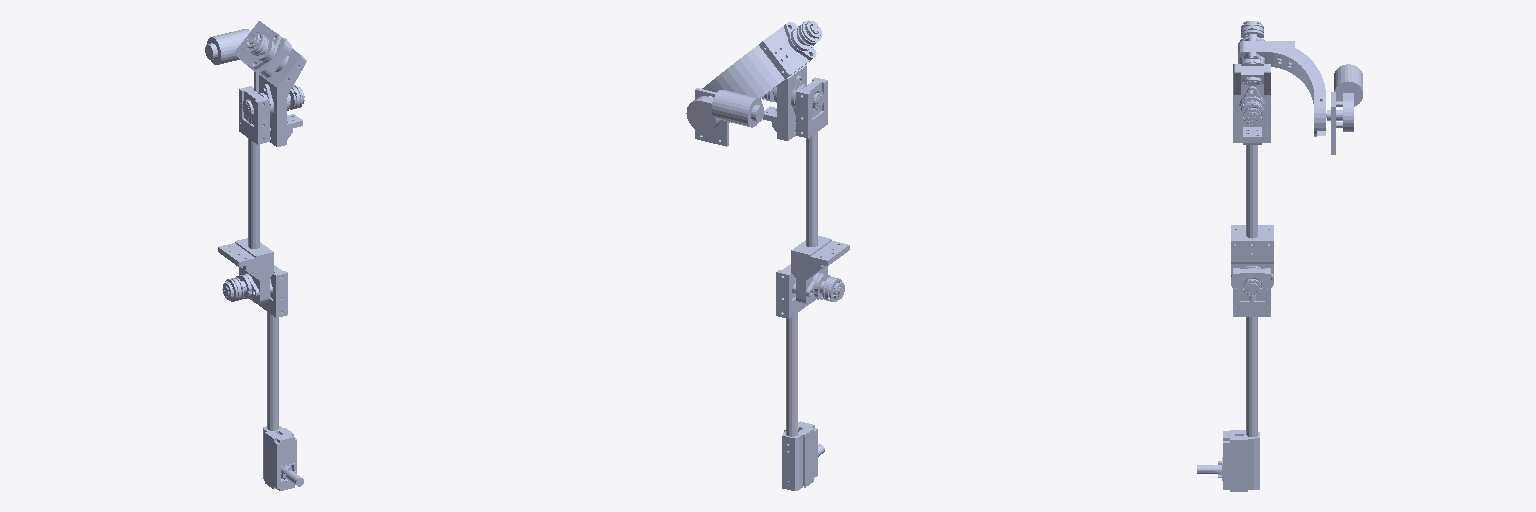
The robot description file, URDF, robot "armatus05":
<robot
  name="armatus05">
  <link
    name="base_link">
    <inertial>
      <origin
        xyz="-0.0441035207367266 0.133129136439465 0.120343299252624"
        rpy="0 0 0" />
      <mass
        value="0.468691906928147" />
      <inertia
        ixx="0.000175050143229992"
        ixy="0.000150316849782907"
        ixz="-0.000108696774317794"
        iyy="0.000258917610154074"
        iyz="8.15383088186357E-05"
        izz="0.00031298015583052" />
    </inertial>
    <visual>
      <origin
        xyz="0 0 0"
        rpy="0 0 0" />
      <geometry>
        <mesh
          filename="package://armatus05/meshes/base_link.STL" />
      </geometry>
      <material
        name="">
        <color
          rgba="0.792156862745098 0.819607843137255 0.933333333333333 1" />
      </material>
    </visual>
    <collision>
      <origin
        xyz="0 0 0"
        rpy="0 0 0" />
      <geometry>
        <mesh
          filename="package://armatus05/meshes/base_link.STL" />
      </geometry>
    </collision>
  </link>
  <link
    name="link1">
    <inertial>
      <origin
        xyz="-0.0895141673370674 2.57477610537959E-07 0.0658764774104169"
        rpy="0 0 0" />
      <mass
        value="0.645673307184909" />
      <inertia
        ixx="0.000154588451666726"
        ixy="-1.47066835651919E-08"
        ixz="0.000246559051749186"
        iyy="0.00054844629959003"
        iyz="9.18076963914551E-09"
        izz="0.000393857849027755" />
    </inertial>
    <visual>
      <origin
        xyz="0 0 0"
        rpy="0 0 0" />
      <geometry>
        <mesh
          filename="package://armatus05/meshes/link1.STL" />
      </geometry>
      <material
        name="">
        <color
          rgba="0.792156862745098 0.819607843137255 0.933333333333333 1" />
      </material>
    </visual>
    <collision>
      <origin
        xyz="0 0 0"
        rpy="0 0 0" />
      <geometry>
        <mesh
          filename="package://armatus05/meshes/link1.STL" />
      </geometry>
    </collision>
  </link>
  <joint
    name="q1"
    type="continuous">
    <origin
      xyz="0.0026164 -0.16132 0.11812"
      rpy="1.5708 0.7854 -6.123E-17" />
    <parent
      link="base_link" />
    <child
      link="link1" />
    <axis
      xyz="0 0 1" />
  </joint>
  <link
    name="link2">
    <inertial>
      <origin
        xyz="3.07676155664183E-07 0.0564202422369583 -0.0656965211506138"
        rpy="0 0 0" />
      <mass
        value="0.499147117919005" />
      <inertia
        ixx="0.00155927643305349"
        ixy="7.57179845178887E-09"
        ixz="1.80871403006569E-08"
        iyy="0.00104901305996136"
        iyz="-0.000649128741932588"
        izz="0.000510263419661247" />
    </inertial>
    <visual>
      <origin
        xyz="0 0 0"
        rpy="0 0 0" />
      <geometry>
        <mesh
          filename="package://armatus05/meshes/link2.STL" />
      </geometry>
      <material
        name="">
        <color
          rgba="0.792156862745098 0.819607843137255 0.933333333333333 1" />
      </material>
    </visual>
    <collision>
      <origin
        xyz="0 0 0"
        rpy="0 0 0" />
      <geometry>
        <mesh
          filename="package://armatus05/meshes/link2.STL" />
      </geometry>
    </collision>
  </link>
  <joint
    name="q2"
    type="continuous">
    <origin
      xyz="0 0 0.155"
      rpy="0 -1.5708 3.1415" />
    <parent
      link="link1" />
    <child
      link="link2" />
    <axis
      xyz="0 0 1" />
  </joint>
  <link
    name="link3">
    <inertial>
      <origin
        xyz="-0.000961128611003725 -0.232406021110969 -0.111290357967639"
        rpy="0 0 0" />
      <mass
        value="0.674622622643783" />
      <inertia
        ixx="0.0208988036242029"
        ixy="-8.32679702380219E-05"
        ixz="-6.52695746299325E-06"
        iyy="0.000519298638674693"
        iyz="-0.00157969424138807"
        izz="0.0203801885198768" />
    </inertial>
    <visual>
      <origin
        xyz="0 0 0"
        rpy="0 0 0" />
      <geometry>
        <mesh
          filename="package://armatus05/meshes/link3.STL" />
      </geometry>
      <material
        name="">
        <color
          rgba="0.792156862745098 0.819607843137255 0.933333333333333 1" />
      </material>
    </visual>
    <collision>
      <origin
        xyz="0 0 0"
        rpy="0 0 0" />
      <geometry>
        <mesh
          filename="package://armatus05/meshes/link3.STL" />
      </geometry>
    </collision>
  </link>
  <joint
    name="q3"
    type="continuous">
    <origin
      xyz="0 0.026766 -0.0053396"
      rpy="-0.78539 0.0029116 -3.1387" />
    <parent
      link="link2" />
    <child
      link="link3" />
    <axis
      xyz="0 0 1" />
  </joint>
  <link
    name="link4">
    <inertial>
      <origin
        xyz="0.00870075325055064 -0.188619113469937 0.0364614707390779"
        rpy="0 0 0" />
      <mass
        value="0.479696419916218" />
      <inertia
        ixx="0.0177109735880122"
        ixy="0.000914809682286592"
        ixz="4.78363852362251E-05"
        iyy="0.000513995152654501"
        iyz="-0.00103667080993815"
        izz="0.0174531008911726" />
    </inertial>
    <visual>
      <origin
        xyz="0 0 0"
        rpy="0 0 0" />
      <geometry>
        <mesh
          filename="package://armatus05/meshes/link4.STL" />
      </geometry>
      <material
        name="">
        <color
          rgba="0.792156862745098 0.819607843137255 0.933333333333333 1" />
      </material>
    </visual>
    <collision>
      <origin
        xyz="0 0 0"
        rpy="0 0 0" />
      <geometry>
        <mesh
          filename="package://armatus05/meshes/link4.STL" />
      </geometry>
    </collision>
  </link>
  <joint
    name="q4"
    type="continuous">
    <origin
      xyz="-0.0017294 -0.42 -0.0445"
      rpy="3.1416 2.1291E-27 -3.1416" />
    <parent
      link="link3" />
    <child
      link="link4" />
    <axis
      xyz="0 0 -1" />
  </joint>
  <link
    name="linkeff">
    <inertial>
      <origin
        xyz="2.44249065417534E-15 0.0530372351438003 -5.55111512312578E-17"
        rpy="0 0 0" />
      <mass
        value="0.0294646479378636" />
      <inertia
        ixx="0"
        ixy="0"
        ixz="0"
        iyy="0"
        iyz="0"
        izz="0" />
    </inertial>
    <visual>
      <origin
        xyz="0 0 0"
        rpy="0 0 0" />
      <geometry>
        <mesh
          filename="package://armatus05/meshes/linkeff.STL" />
      </geometry>
      <material
        name="">
        <color
          rgba="0.792156862745098 0.819607843137255 0.933333333333333 1" />
      </material>
    </visual>
    <collision>
      <origin
        xyz="0 0 0"
        rpy="0 0 0" />
      <geometry>
        <mesh
          filename="package://armatus05/meshes/linkeff.STL" />
      </geometry>
    </collision>
  </link>
  <joint
    name="eff"
    type="continuous">
    <origin
      xyz="0.018773 -0.43043 0.025"
      rpy="1.5987E-14 0.31793 -1.5667" />
    <parent
      link="link4" />
    <child
      link="linkeff" />
    <axis
      xyz="0 1 0" />
  </joint>
</robot>

--- What the picture shows (computed from the rendered views, not written in the file) ---
3 views of the same robot in one strip: view 1: azimuth 30°, elevation 25°; view 2: azimuth 150°, elevation 25°; view 3: azimuth 270°, elevation 25° (orthographic).
Robot: armatus05 — 6 links, 5 joints (5 continuous); root link base_link; default pose: all joints at 0.
Links seen in each view (by area): view 1: link3, link4, link2, link1, base_link; view 2: link3, link4, link1, base_link, link2; view 3: link4, link3, link1, link2, base_link.
Boxes of the visible links, x1,y1,x2,y2 form: link3: (218, 85, 304, 303); link4: (222, 265, 296, 490); link2: (245, 32, 306, 146); link1: (234, 21, 292, 77); base_link: (205, 29, 286, 92); link3: (762, 77, 849, 304); link4: (776, 264, 844, 490); link1: (702, 22, 816, 122); base_link: (686, 88, 764, 146); link2: (763, 20, 821, 140); link4: (1218, 268, 1270, 491); link3: (1231, 100, 1273, 287); link1: (1238, 36, 1325, 136); link2: (1233, 21, 1270, 144); base_link: (1326, 64, 1362, 154).
Size in the robot's own frame: 0.2528 by 0.3501 by 1.06 metres.
Meshes: 6 distinct files referenced, 6 mesh visuals loaded (6 binary STL).
